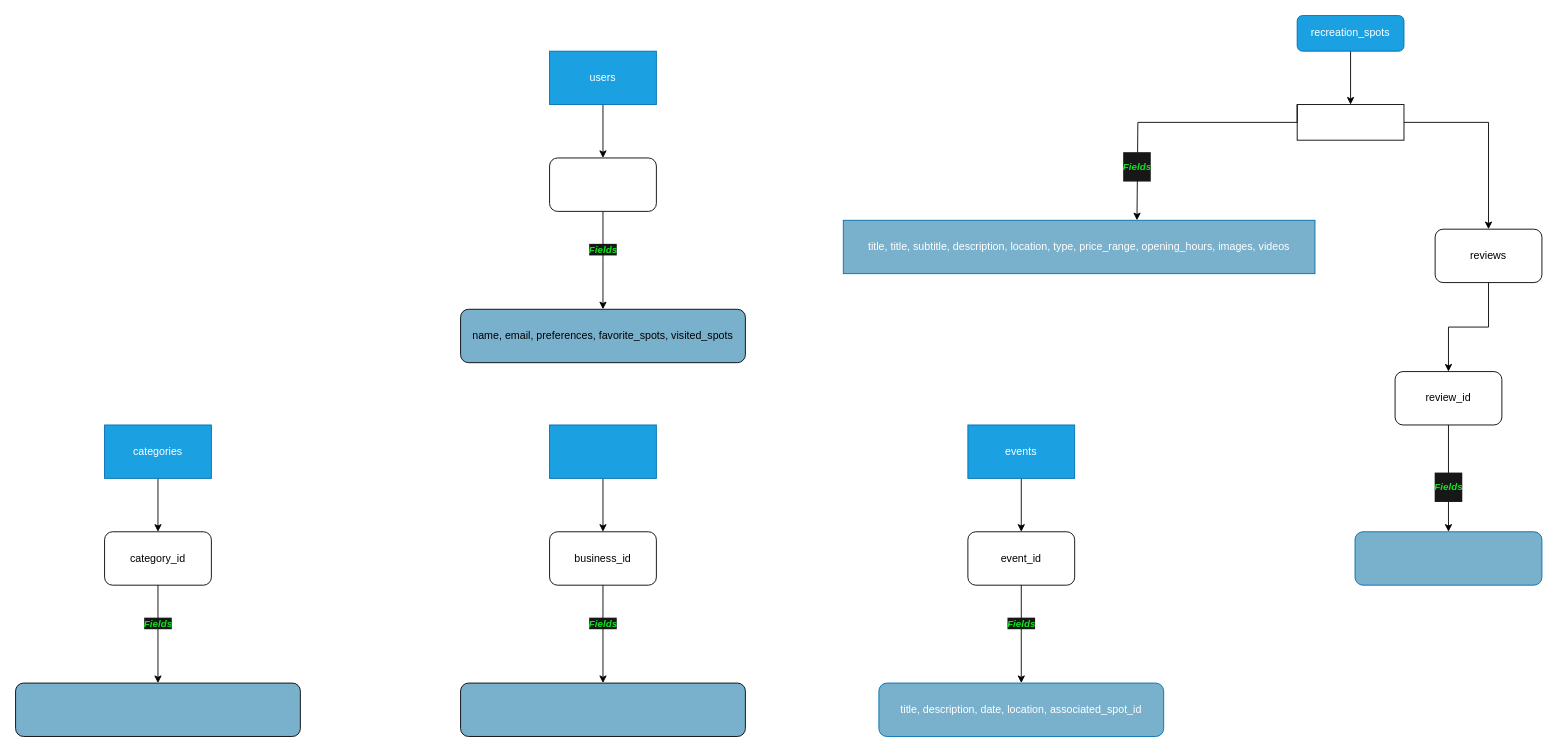
The diagram is 1558 pixels wide and 752 high, and some of its shapes have lost their labels. Here are the shapes that lost their labels. From the top down, the centre of each, then its label:
(1350,122): spot_id
(602,184): user_id
(602,451): businesses
(1448,558): user_id, rating, comment, date
(157,709): name, description
(602,709): name, type, description, location, contact_info, verified
